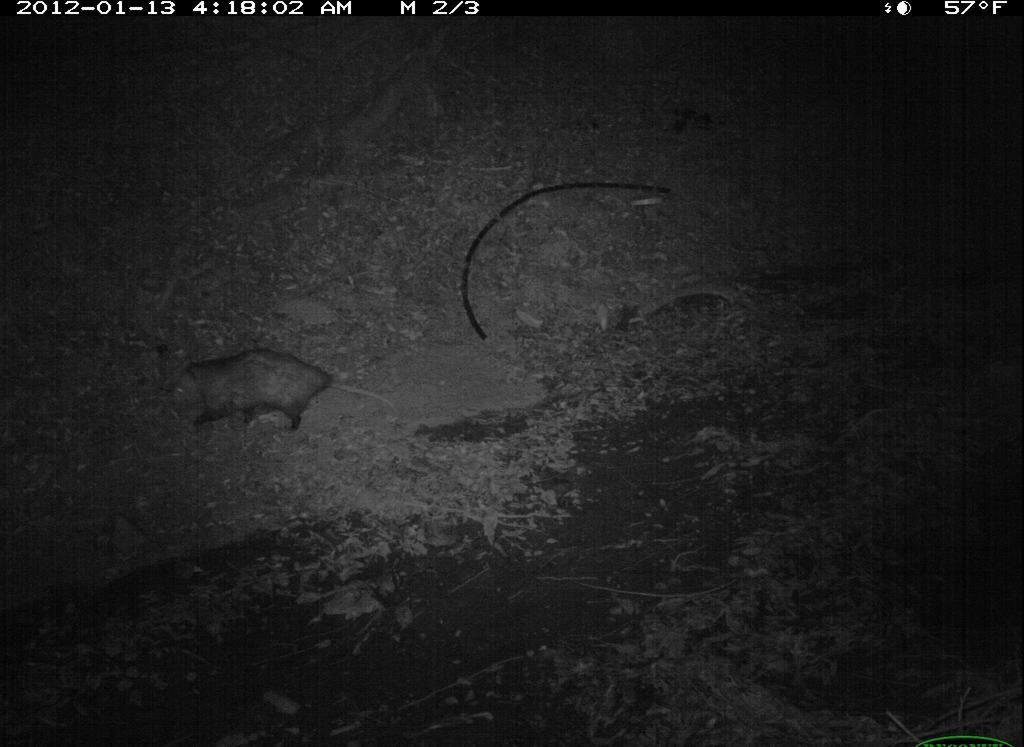opossum: (146, 340, 415, 446)
